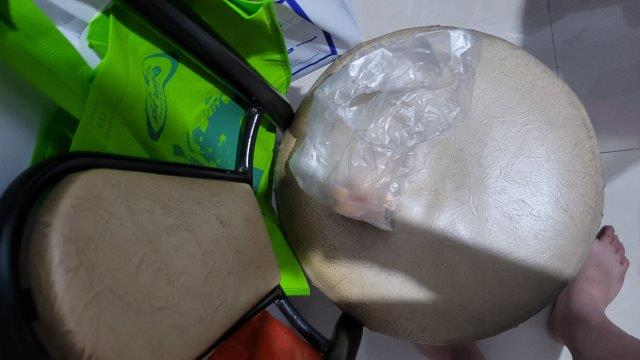plastik: (293, 28, 475, 233)
